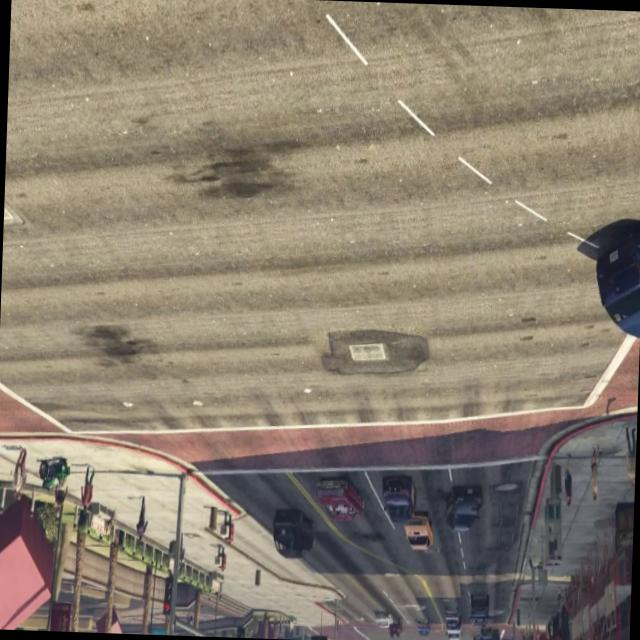Red-Signal: (159, 570, 175, 619), (305, 623, 330, 640), (232, 614, 248, 638)
